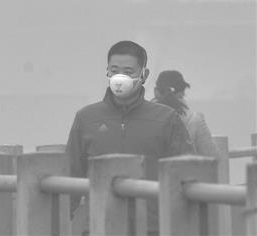person: (63, 39, 192, 182), (150, 69, 221, 182)
